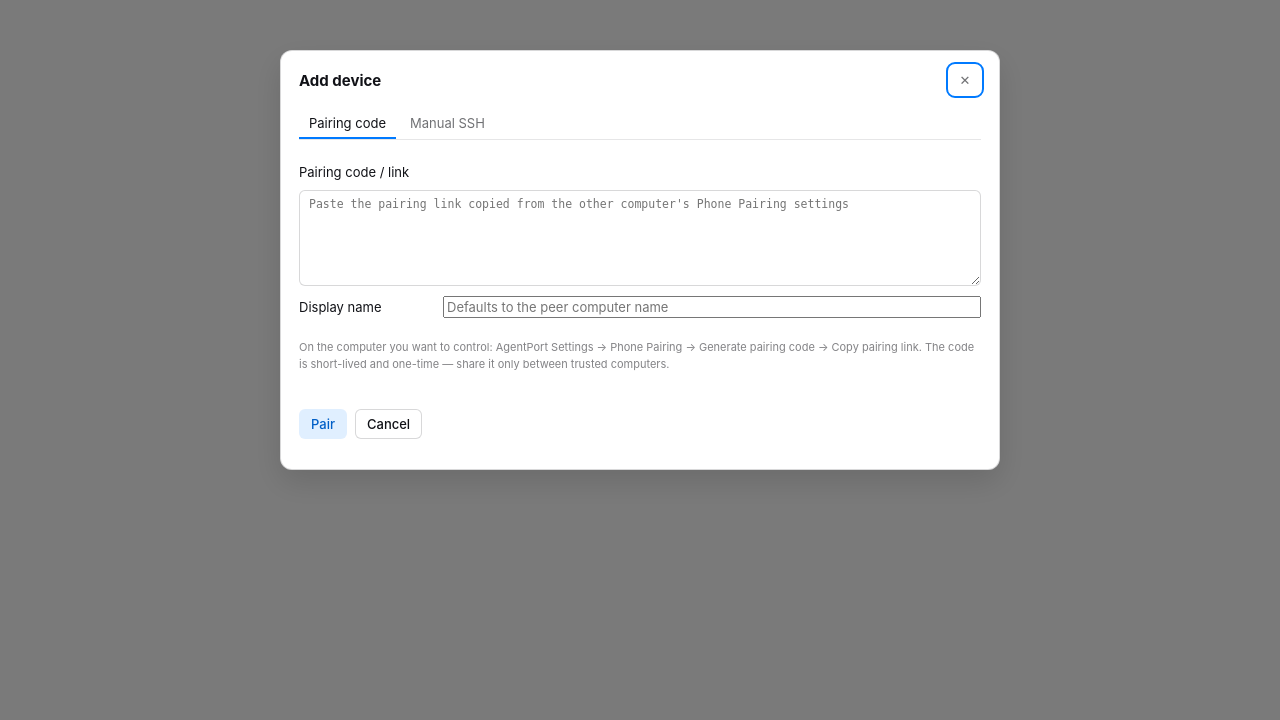
manual SSH tab › maps structured probe errors to distinct messages
Click the tab "Manual SSH": (447, 124) [400,109,495,139]
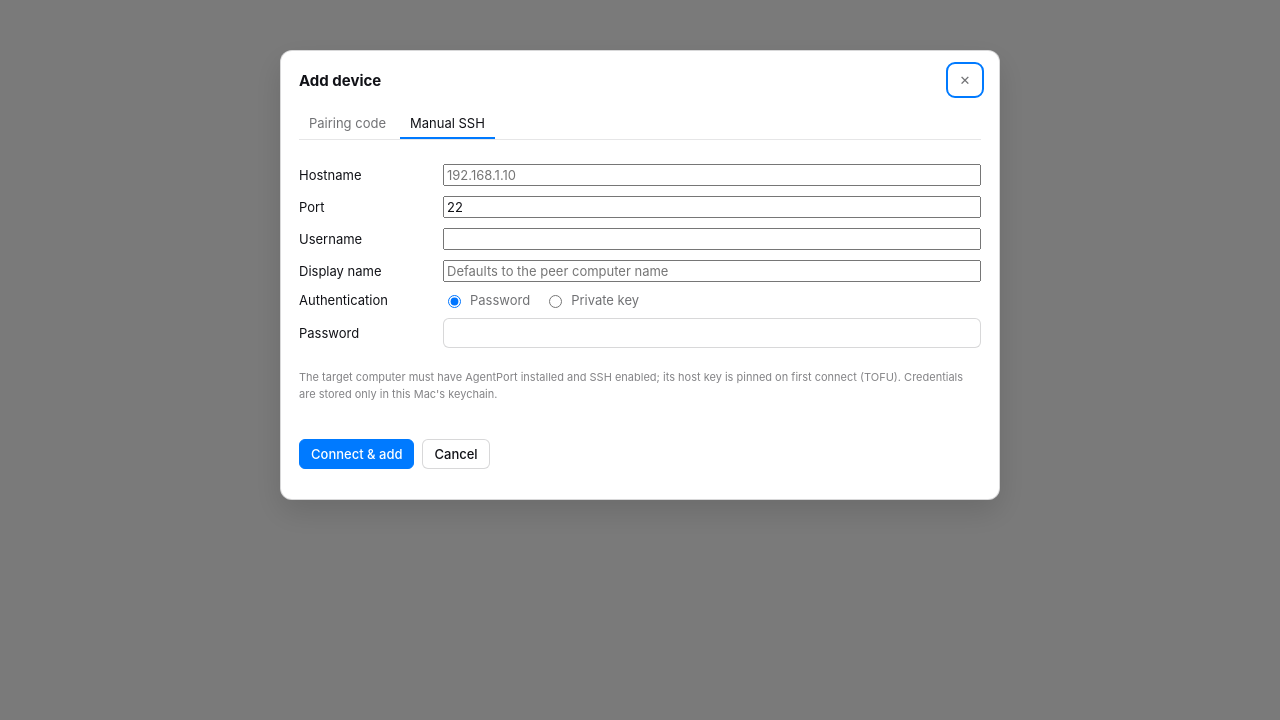
In the field labelled "Hostname": (712, 175) [443,164,981,186], type "box"
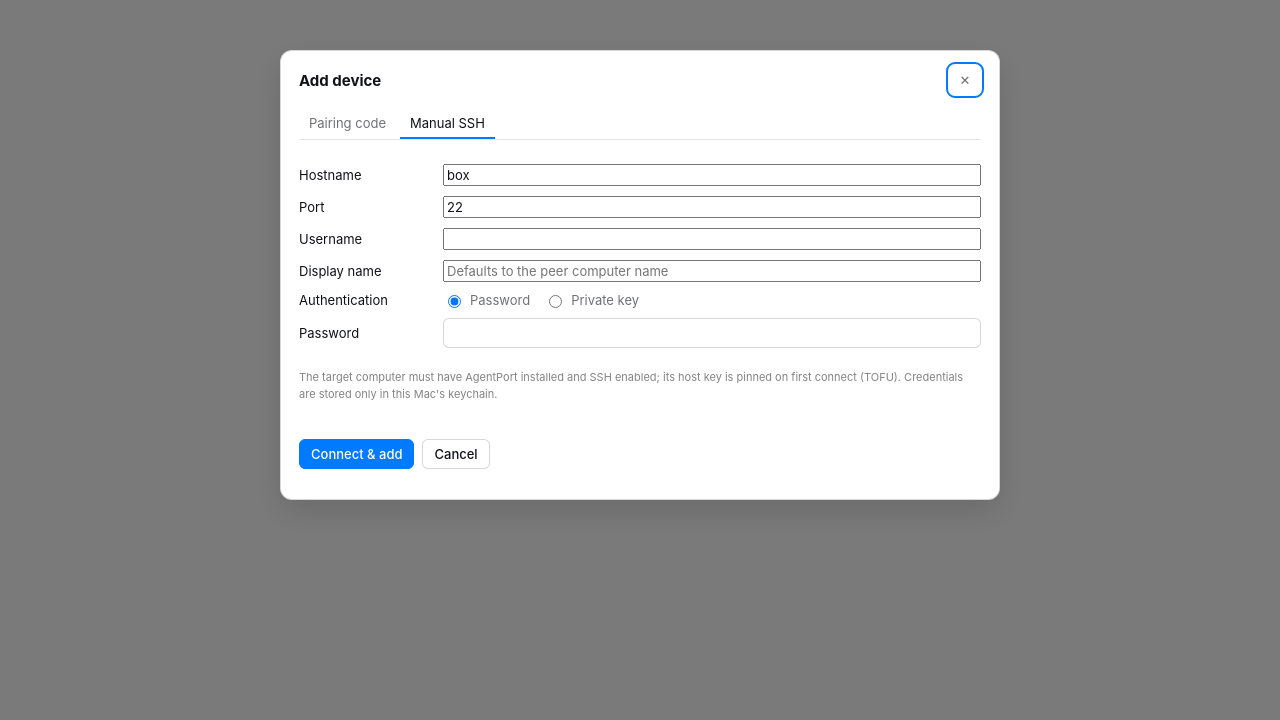
In the field labelled "Username": (712, 239) [443,228,981,250], type "dev"
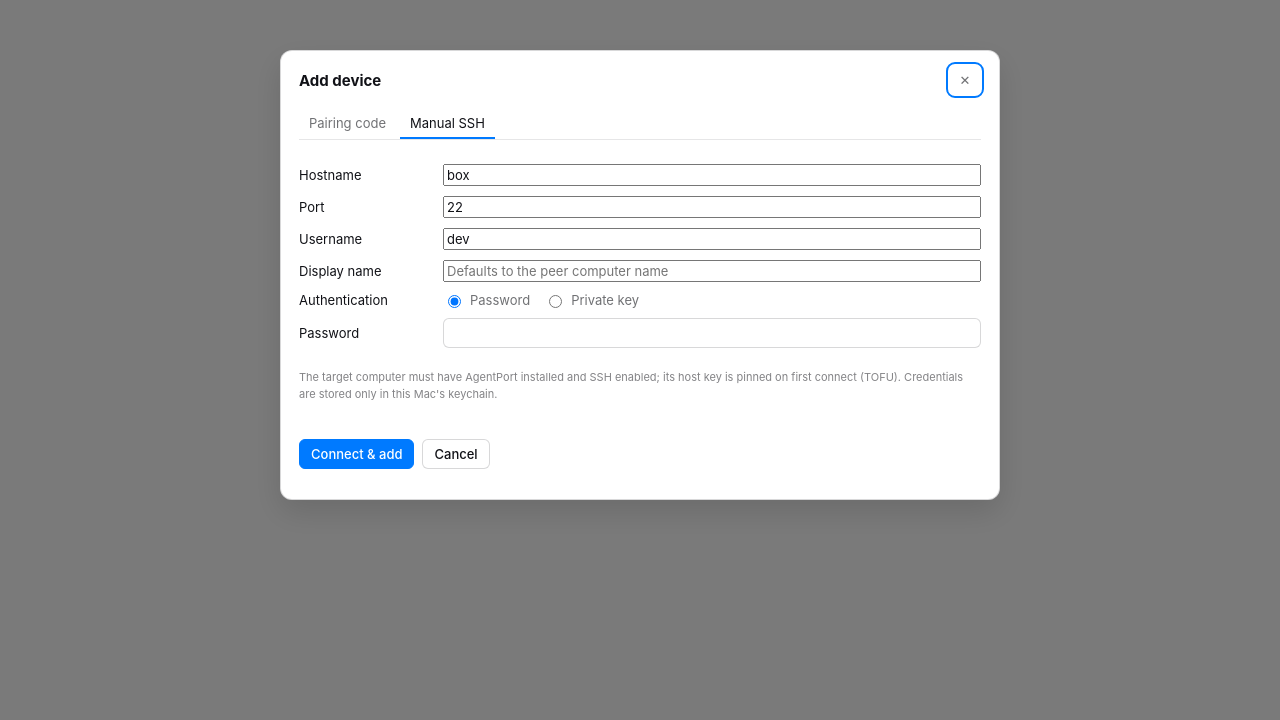
In the password field labelled "Password": (712, 333) [443,318,981,348], type "pw"
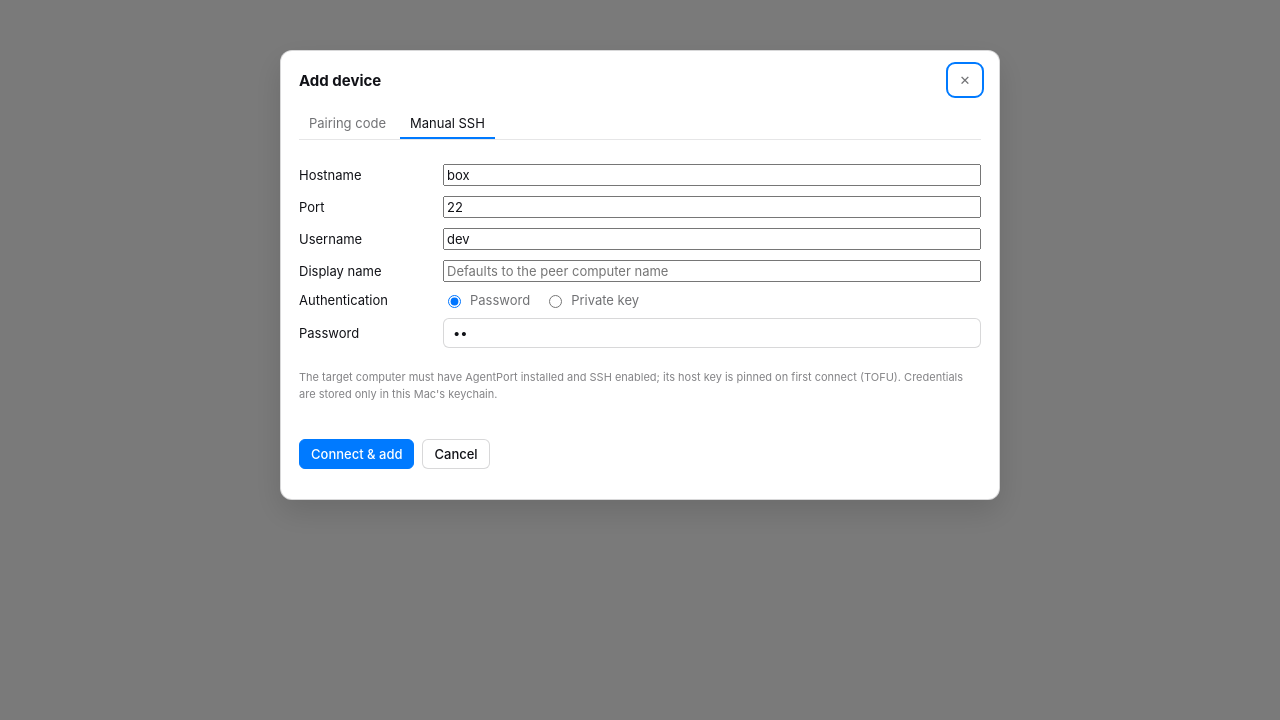
Click the button "Connect & add": (357, 454) [299,439,414,469]
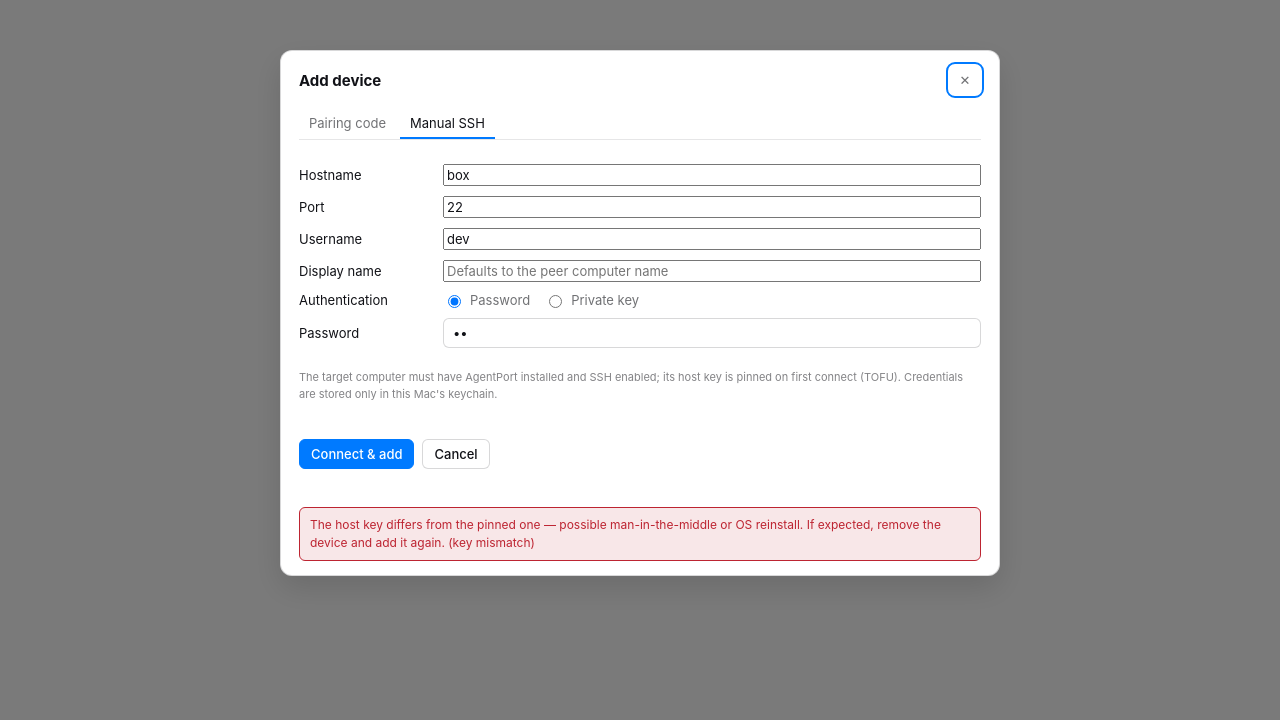
expect the text "host key differs from the pinned one" is shown: met, box [310,517,941,550]
